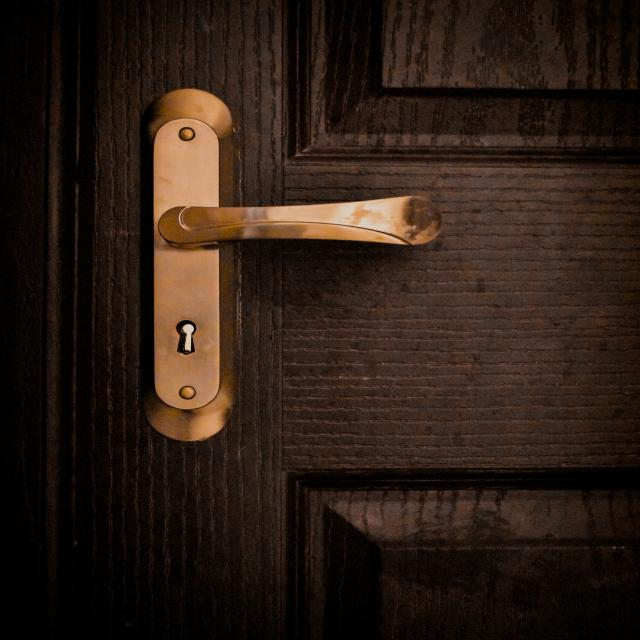door-handle: (158, 196, 442, 245)
